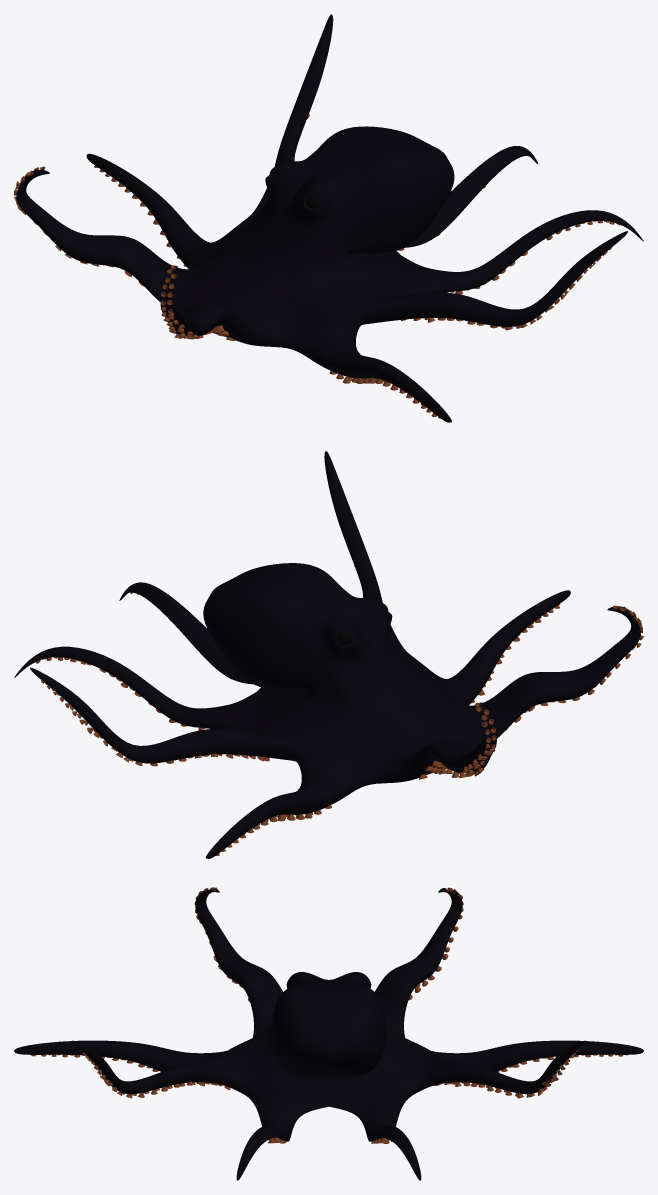
The model's file is ahtapot.obj.
3 views of the same model, one above another, from view 1: azimuth 30°, elevation 25°; view 2: azimuth 150°, elevation 25°; view 3: azimuth 270°, elevation 25° (orthographic). The views are drawn at different scales.
Parts seen in each view (by area): view 1: Cube_Cube.002; view 2: Cube_Cube.002; view 3: Cube_Cube.002.
Boxes of the visible parts, <box> form: Cube_Cube.002: <box>16,14,643,422</box>; Cube_Cube.002: <box>14,451,640,858</box>; Cube_Cube.002: <box>14,888,643,1180</box>.
Bounding box in the file's own units: 14.33 × 4.17 × 17.93.
